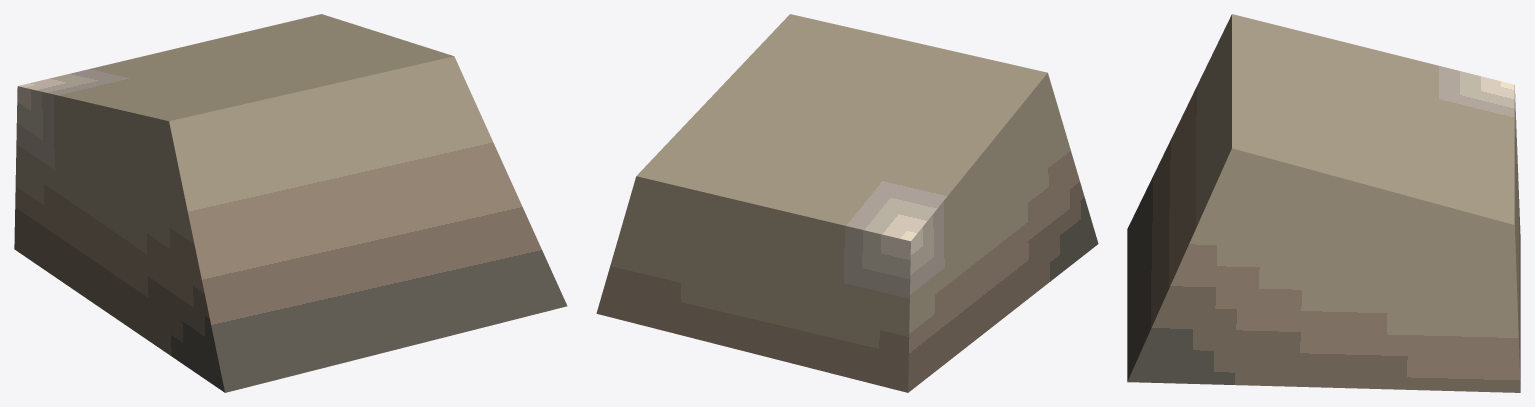
Rendered from rock.gltf.
3 renders of one model, left to right at view 1: azimuth 30°, elevation 25°; view 2: azimuth 150°, elevation 25°; view 3: azimuth 270°, elevation 25°, orthographic. The views are drawn at different scales.
Parts seen in each view (by area): view 1: mesh; view 2: mesh; view 3: mesh.
Part boxes in pixels (x1=…): mesh: x1=14, y1=14, x2=567, y2=392; mesh: x1=596, y1=14, x2=1098, y2=392; mesh: x1=1127, y1=14, x2=1520, y2=392.
Bounding box in the file's own units: 1.08 × 0.7224 × 1.14.
Materials: 1 (1 with a texture image).
